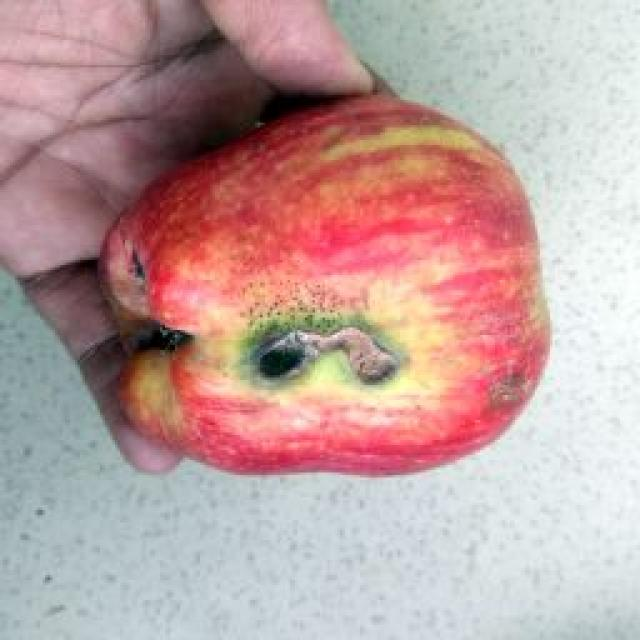Bad_Apple: (100, 96, 549, 473)
